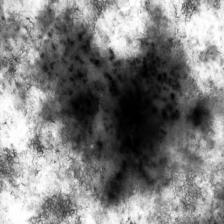Benign Marking or Mole: (61, 35, 192, 200)
